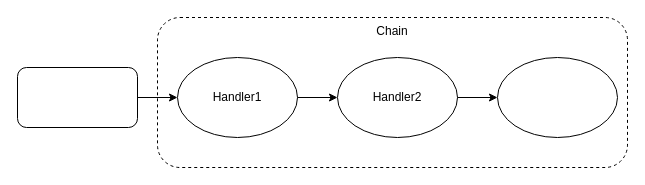
This 645x185 diagram has some shape labels left out. The centre of each missing label's shape, as x and y in pixels:
Handler3: (557,97)
Request: (77,97)
